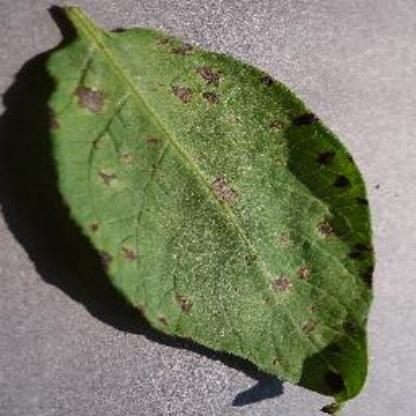Early-Blight: (31, 1, 382, 404)
